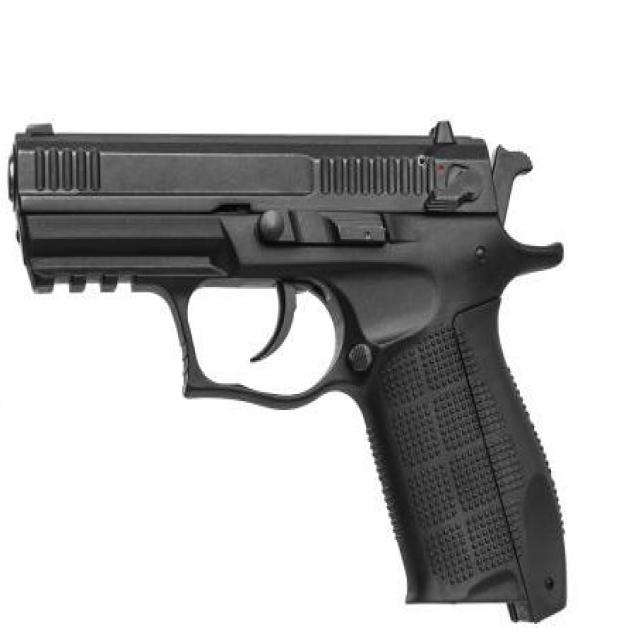pistol: (2, 105, 584, 631)
